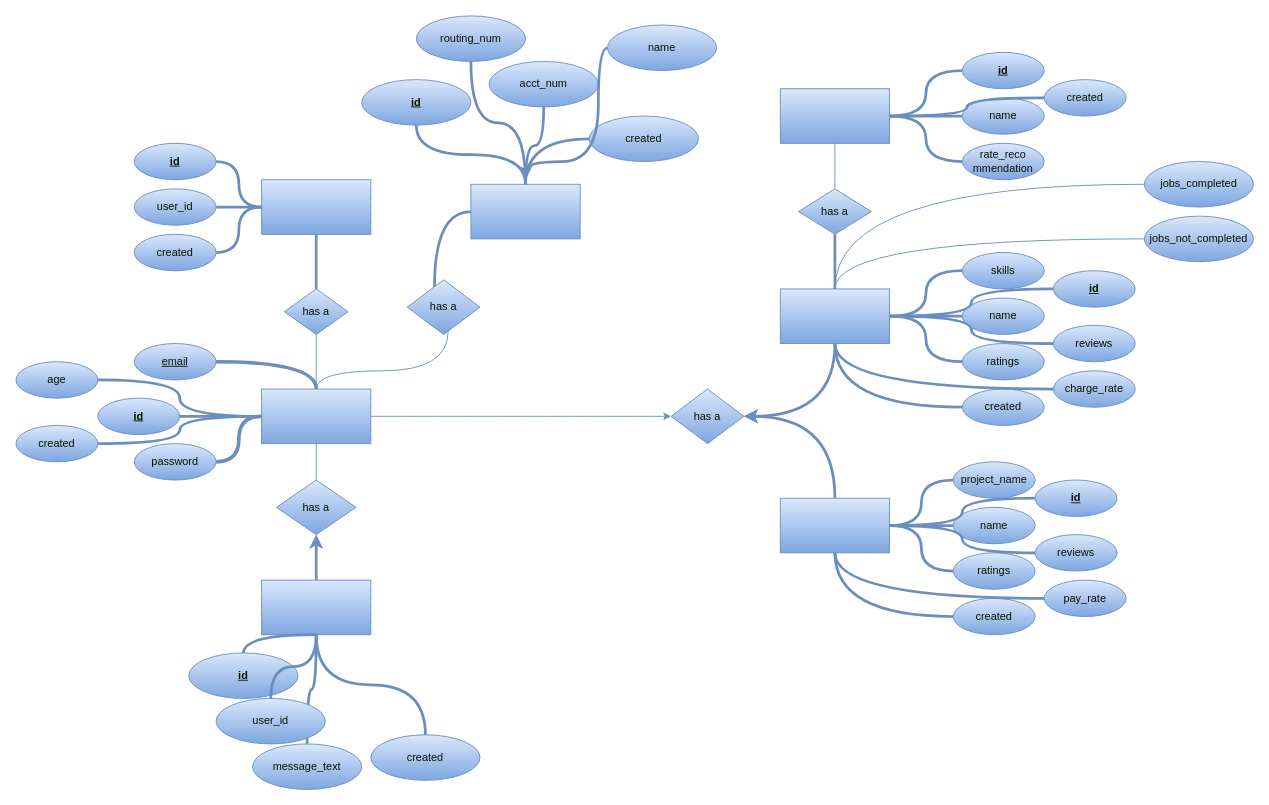
This 1269x805 diagram has some shape labels left out. Each missing label, with the centre of its shape:
Associate: point 316,206
Bank Account: point 525,211
Message: point 316,607
Project: point 834,525
Skill: point 834,115
User Account: point 316,416
Worker: point 834,316
